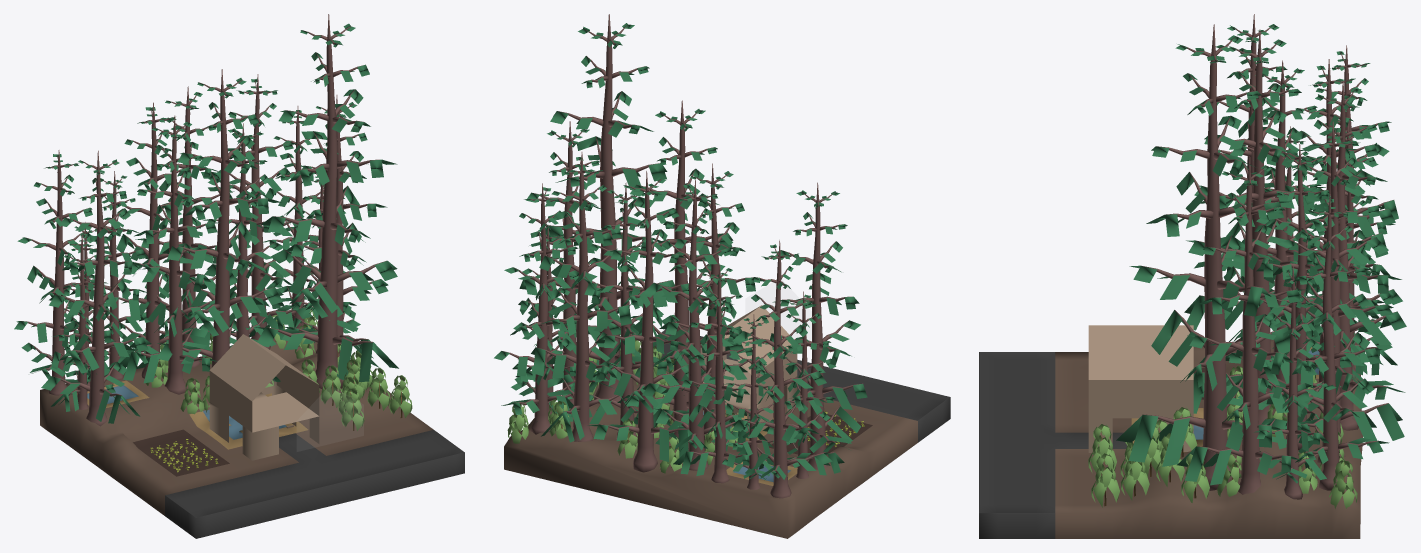
File: forest.glb
The picture shows the model from 3 angles, left to right: view 1: azimuth 30°, elevation 25°; view 2: azimuth 150°, elevation 25°; view 3: azimuth 270°, elevation 25°; orthographic projection. The views are drawn at different scales.
Parts seen in each view (by area): view 1: Plane, Cylinder, Plane.001, Cylinder.008, Cylinder.013, Cylinder.001, Cylinder.009, Cylinder.010, Cylinder.004, Cylinder.002, Cylinder.007, Cylinder.003 (+10 smaller); view 2: Plane, Cylinder, Cylinder.004, Cylinder.002, Cylinder.013, Cylinder.009, Cylinder.010, Cylinder.008, Cylinder.005, Cylinder.011, Cylinder.001, Cylinder.007 (+6 smaller); view 3: Plane, Cylinder, Cylinder.007, Plane.001, Cylinder.008, Cylinder.005, Cylinder.004, Cylinder.002, Cylinder.006, Cylinder.003, Cylinder.001, Cylinder.009 (+11 smaller).
Part boxes in pixels (x1,y1,x2,y2): Plane: (40, 338, 464, 538); Cylinder: (252, 14, 398, 389); Plane.001: (209, 334, 319, 460); Cylinder.008: (156, 69, 283, 381); Cylinder.013: (41, 150, 151, 426); Cylinder.001: (120, 115, 223, 394); Cylinder.009: (104, 102, 210, 378); Cylinder.010: (14, 150, 110, 395); Cylinder.004: (204, 74, 313, 349); Cylinder.002: (130, 86, 237, 367); Cylinder.007: (281, 95, 388, 368); Cylinder.003: (198, 123, 284, 347); Plane: (504, 329, 950, 538); Cylinder: (545, 14, 675, 404); Cylinder.004: (531, 152, 631, 442); Cylinder.002: (587, 171, 707, 472); Cylinder.013: (763, 182, 867, 469); Cylinder.009: (642, 179, 750, 470); Cylinder.010: (732, 240, 832, 498); Cylinder.008: (617, 100, 744, 437); Cylinder.005: (494, 183, 592, 434); Cylinder.011: (673, 263, 758, 483); Cylinder.001: (653, 163, 767, 451); Cylinder.007: (515, 121, 620, 404); Plane: (979, 334, 1362, 538); Cylinder: (1116, 24, 1296, 490); Cylinder.007: (1177, 157, 1312, 494); Plane.001: (1088, 325, 1193, 452); Cylinder.008: (1186, 29, 1325, 424); Cylinder.005: (1281, 194, 1389, 490); Cylinder.004: (1267, 121, 1404, 462); Cylinder.002: (1285, 81, 1406, 430); Cylinder.006: (1254, 265, 1340, 499); Cylinder.003: (1238, 144, 1351, 450); Cylinder.001: (1225, 60, 1330, 398); Cylinder.009: (1274, 59, 1392, 389).
Bounding box in the file's own units: 48.81 × 56.72 × 44.87.
